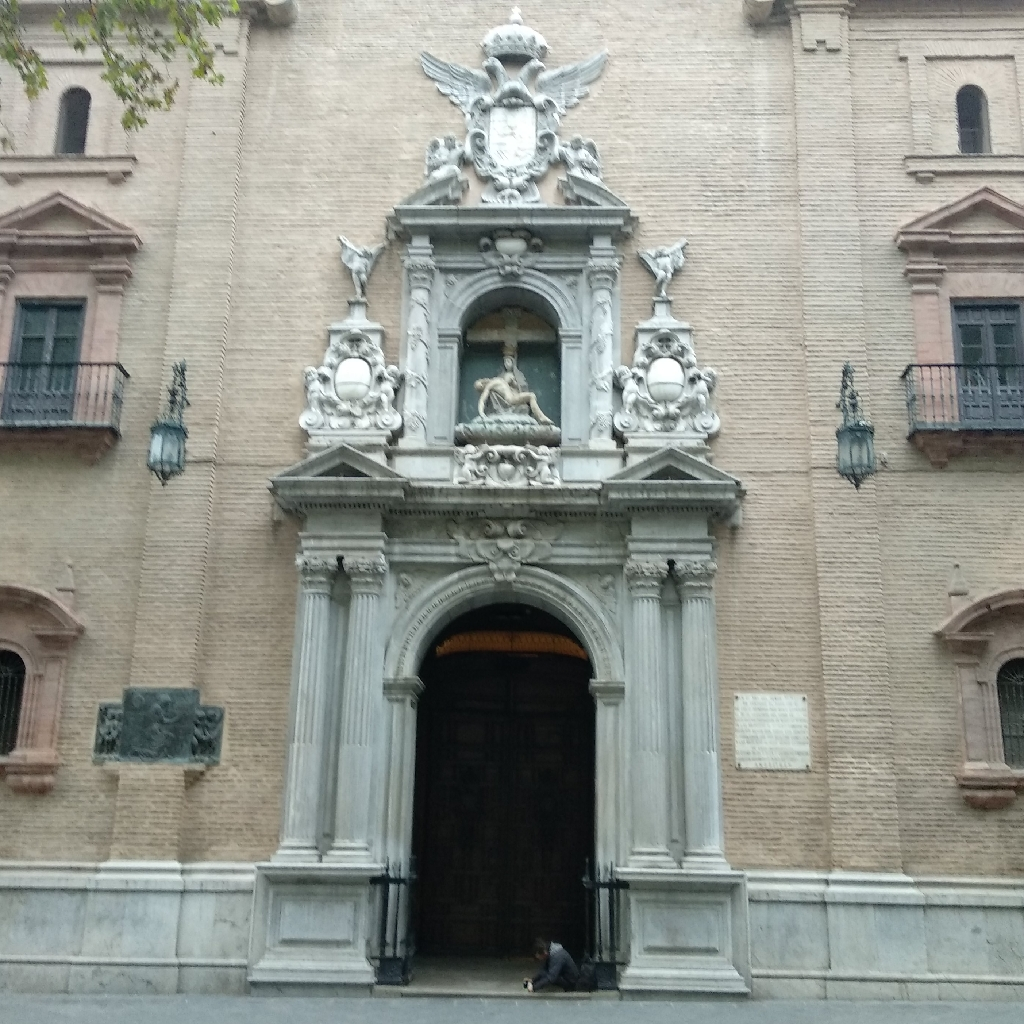arco-medio-punto: (403, 576, 604, 718), (449, 281, 568, 353)
fronton: (599, 442, 745, 502), (892, 183, 1024, 249), (1, 188, 140, 250), (265, 441, 410, 493)
fronton-partido: (387, 171, 631, 227), (1, 577, 94, 643), (939, 580, 1024, 644)
